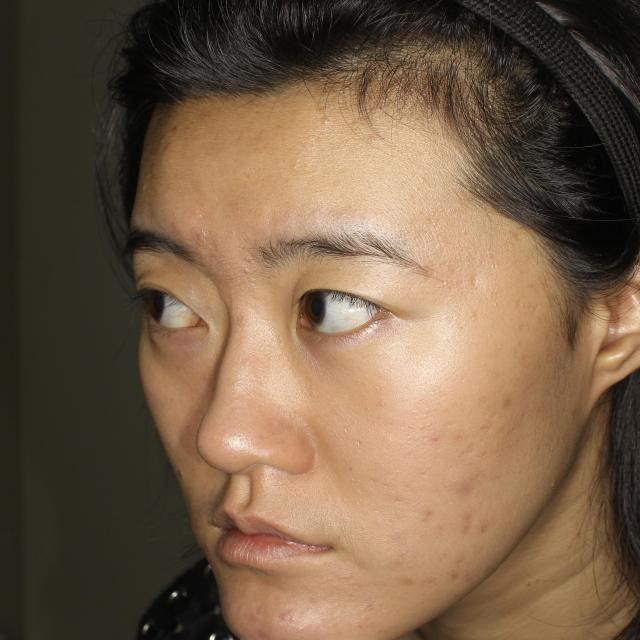acne: (197, 225, 226, 262), (453, 471, 491, 499), (154, 124, 187, 156), (456, 509, 486, 533), (455, 557, 477, 586), (417, 504, 432, 528)
